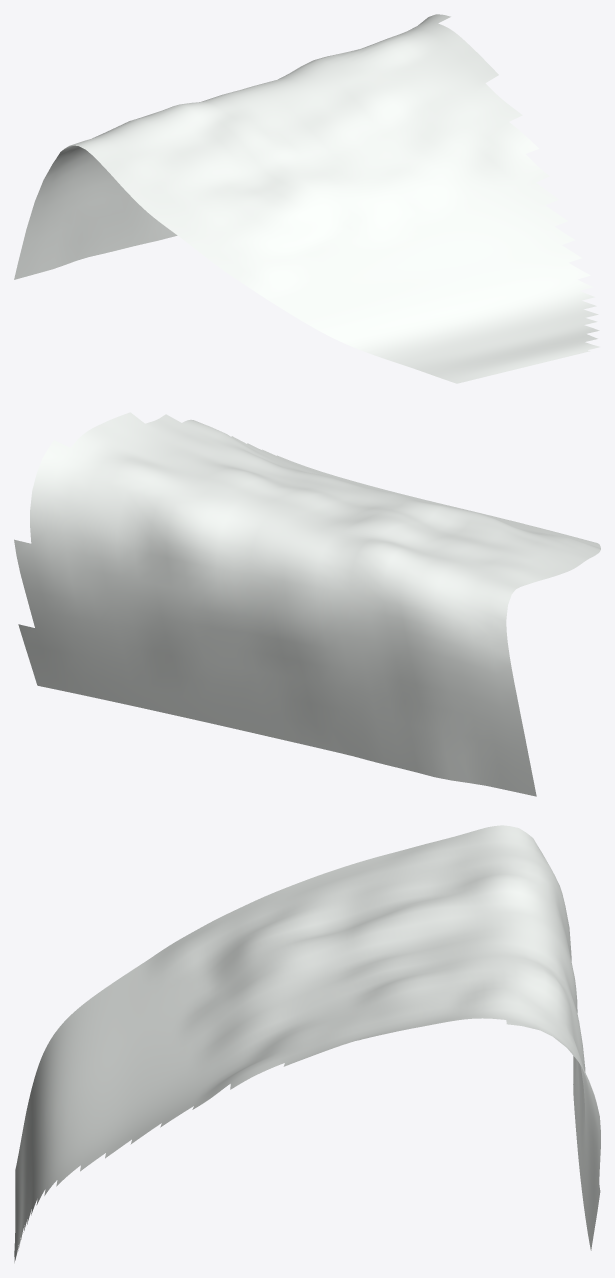
The model's file is Banc Neige 2.FBX.
3 views of the same model, one above another, from view 1: azimuth 30°, elevation 25°; view 2: azimuth 150°, elevation 25°; view 3: azimuth 270°, elevation 25° (orthographic). The views are drawn at different scales.
Visible parts, largest first — view 1: Object001; view 2: Object001; view 3: Object001.
Part boxes in pixels (left/top/right/bottom): Object001: left=14, top=14, right=599, bottom=383; Object001: left=14, top=412, right=600, bottom=796; Object001: left=14, top=825, right=600, bottom=1262.
Bounding box in the file's own units: 90.5 × 39.95 × 80.93.
